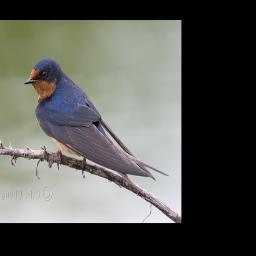Swallow: (23, 56, 170, 182)
